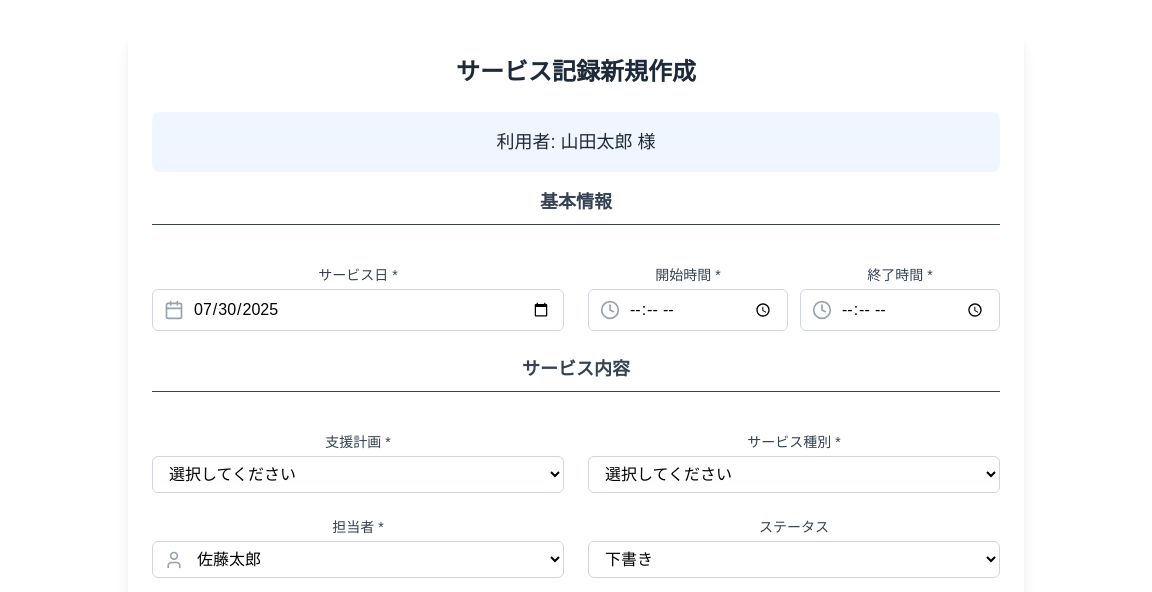
Test: ServiceLogForm › バリデーション › サービス時間が8時間を超える場合警告が表示される
Type "09:00" into the time field labelled "開始時間 *" at {"x": 688, "y": 310}, box [588,289,788,331]
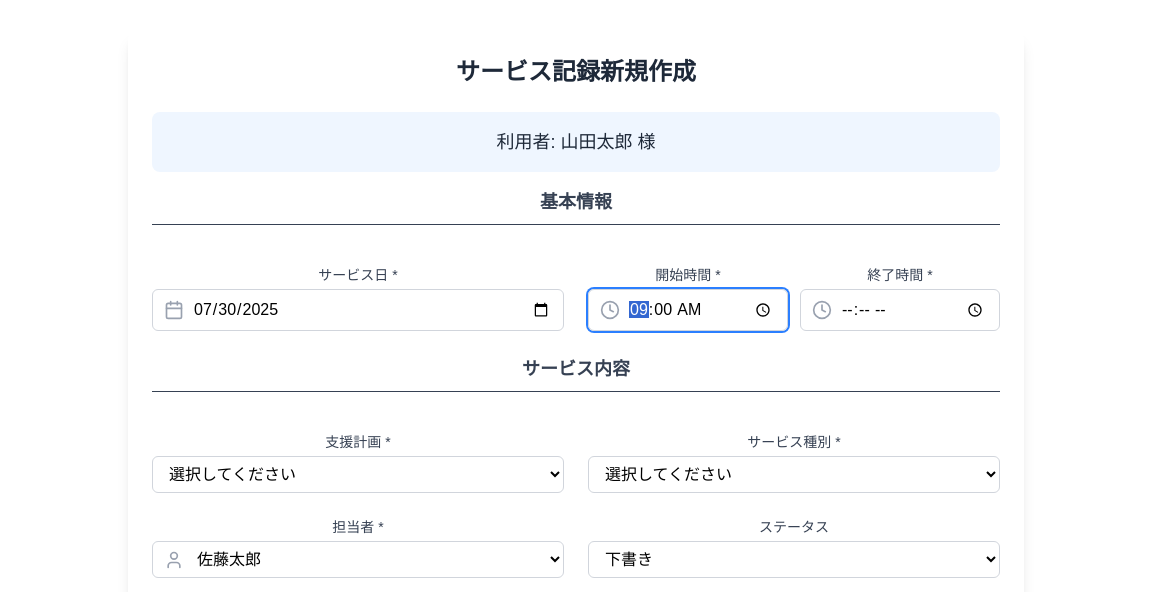
Type "18:00" into the time field labelled "終了時間 *" at {"x": 900, "y": 310}, box [800,289,1000,331]
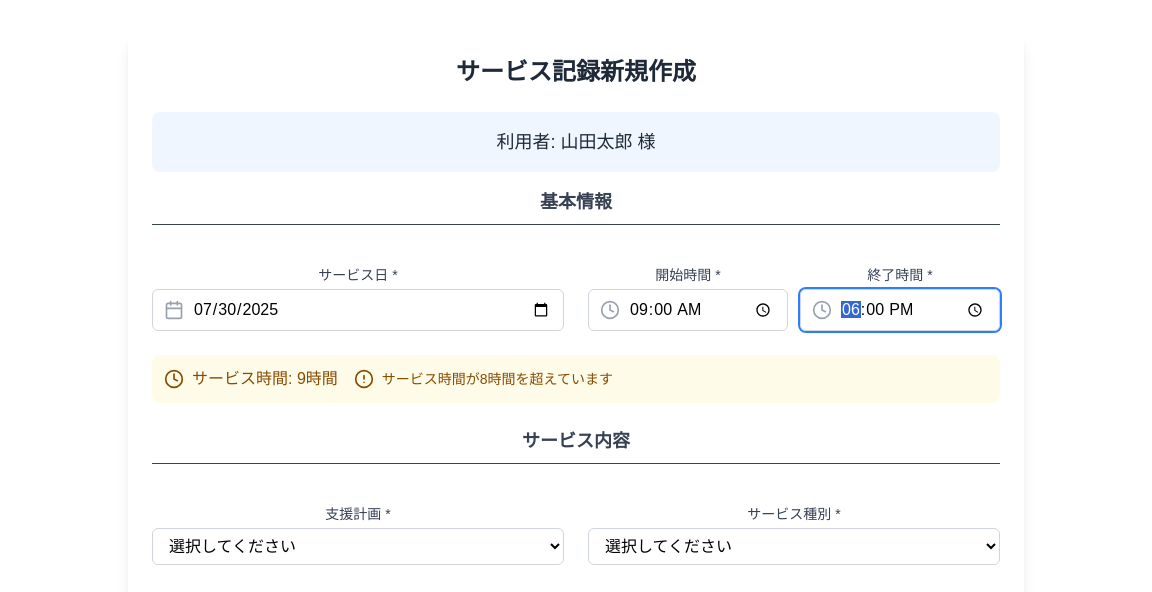
Expected: the text "サービス時間が8時間を超えています" is shown, [382,369,613,389]
